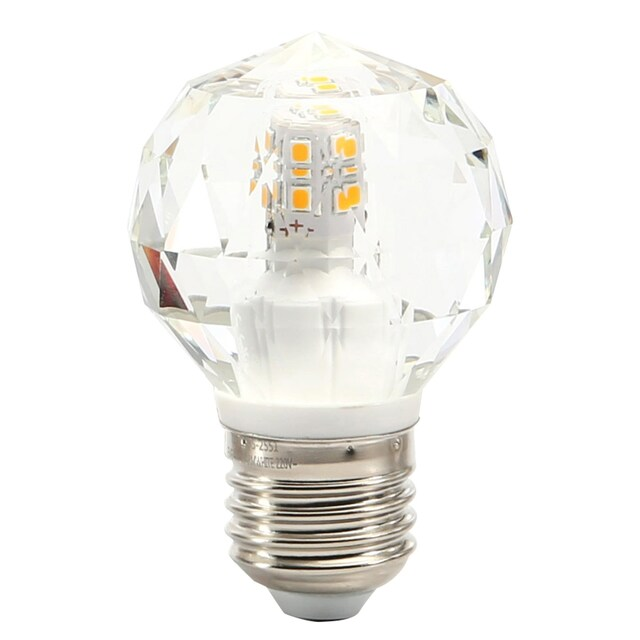Light_bulb: (121, 25, 524, 640)
